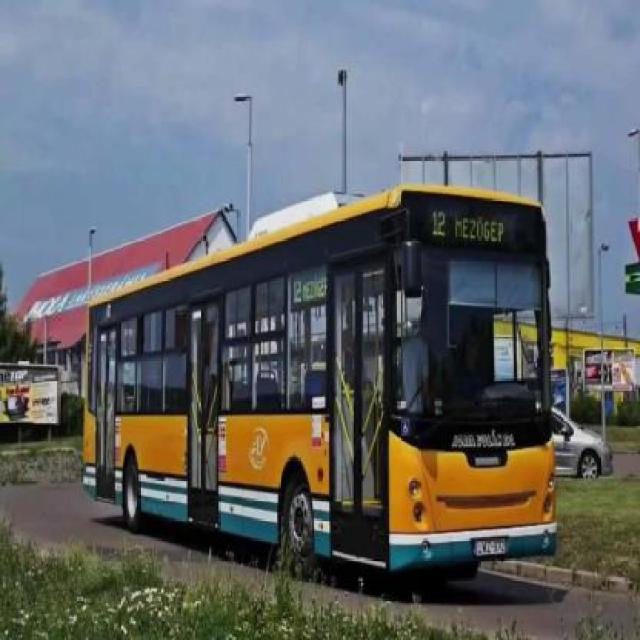bus: (84, 185, 556, 581)
